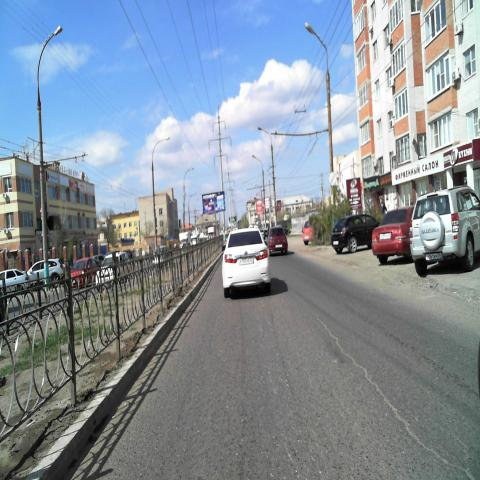3_31: (329, 170, 337, 187)
